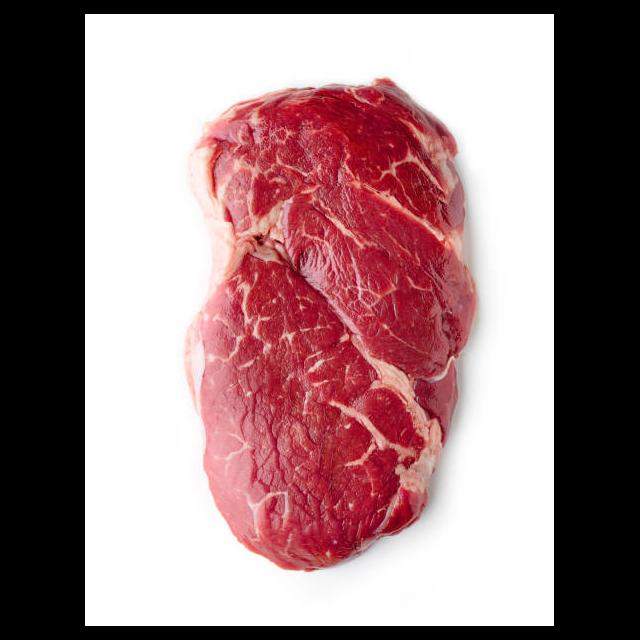beef: (180, 75, 480, 574)
